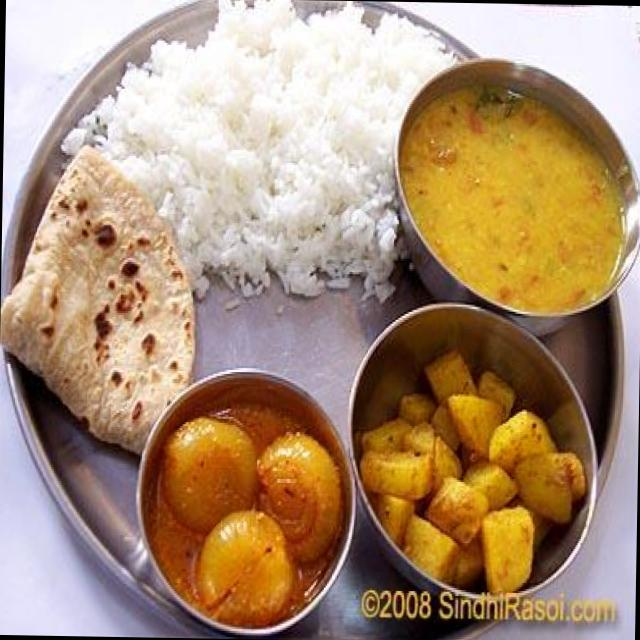dal: (404, 85, 622, 311)
rice: (62, 0, 463, 296)
roti: (0, 146, 196, 454)
